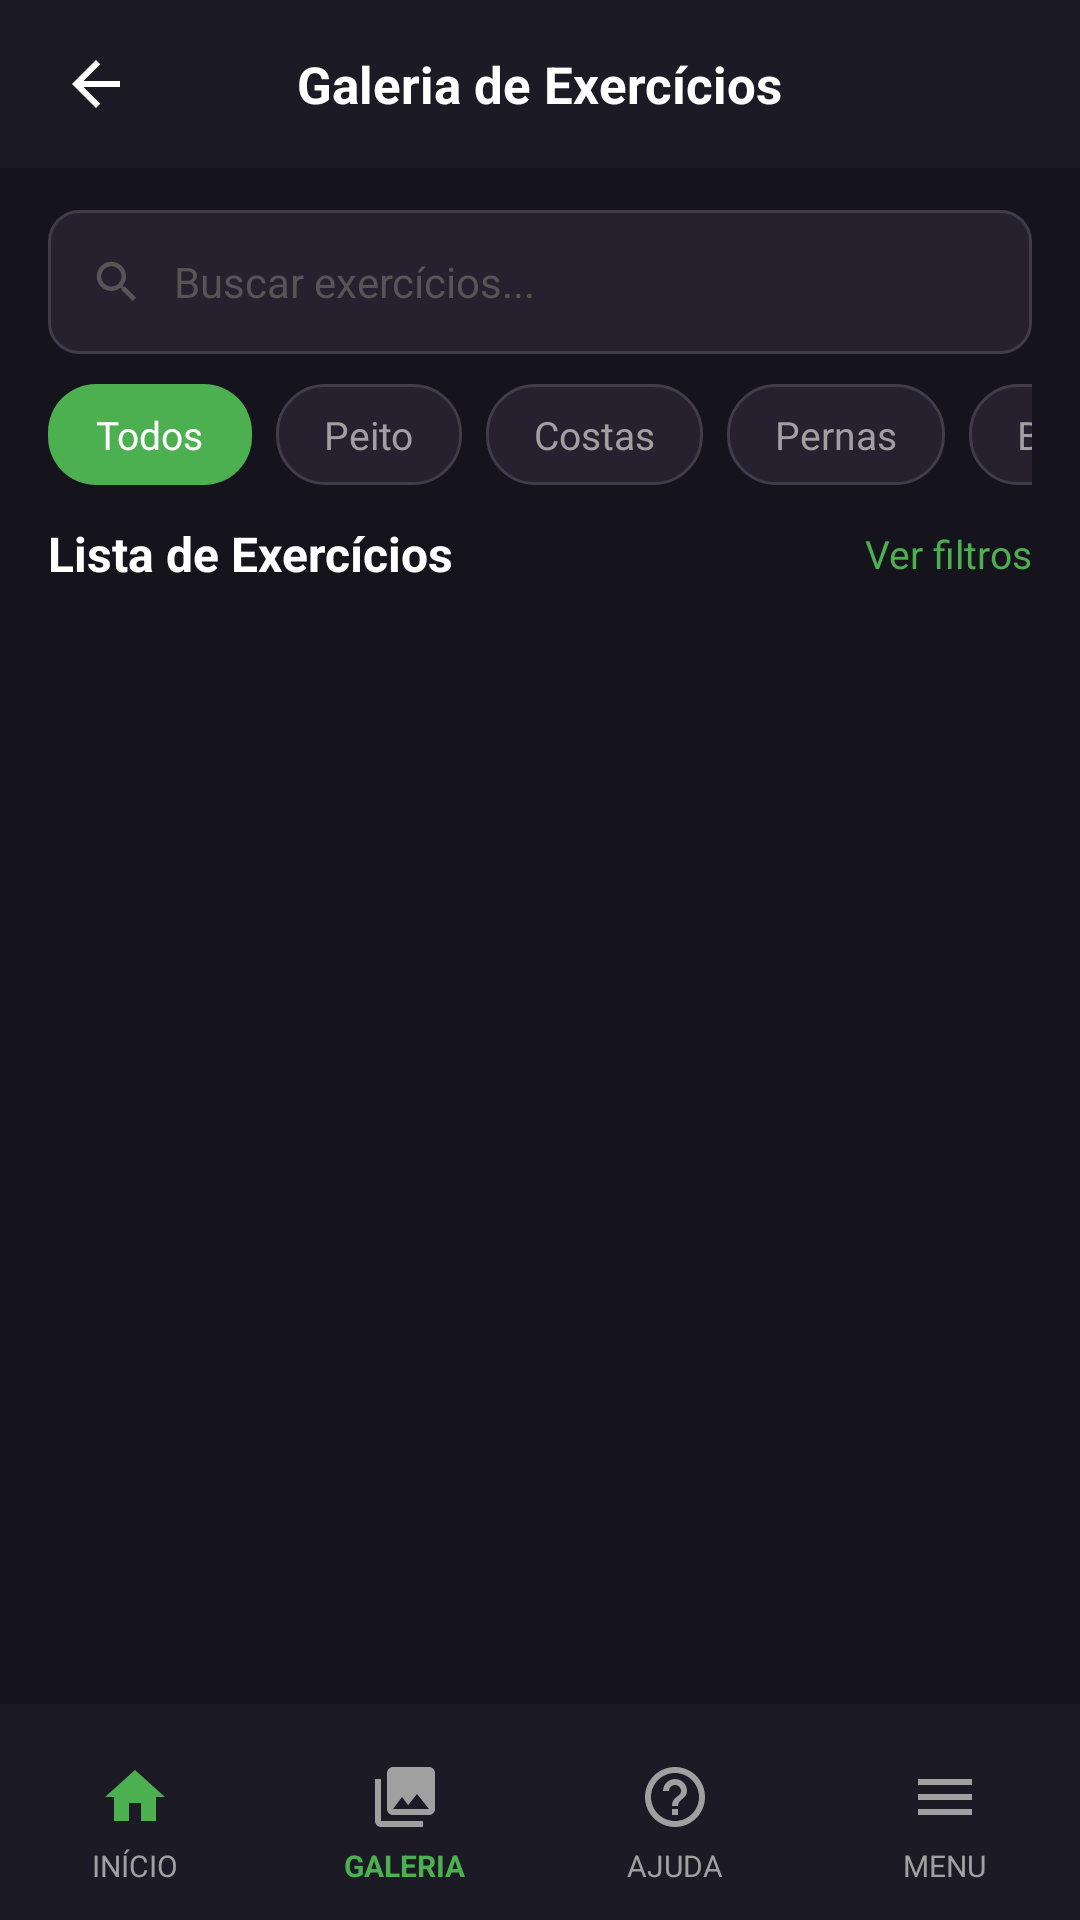

Where icons sit on this 1080 x 1920 app screen, as (x1=x1, y1=y1, x2=x2, y2=y2):
arrow back: (x1=72, y1=60, x2=120, y2=108)
list: (x1=918, y1=1779, x2=972, y2=1815)
search: (x1=97, y1=262, x2=136, y2=301)
